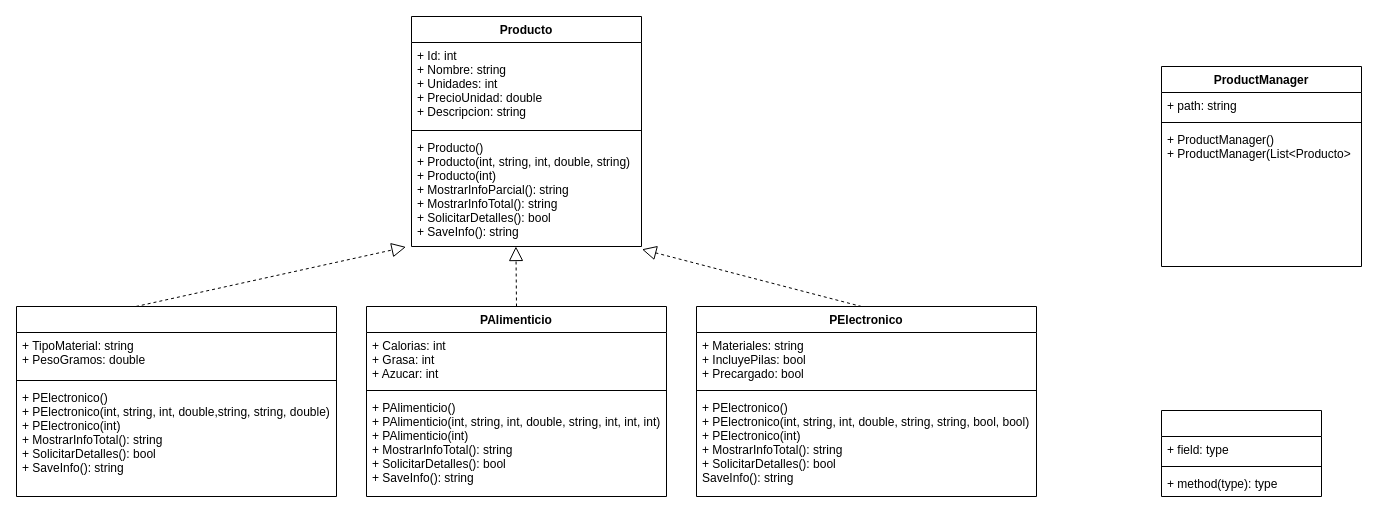
This 1378x513 diagram has some shape labels left out. The box of each missing label's shape, as (x1, y1, x2, y2) in pixels:
Classname: (1160, 410, 1322, 496)
MaterialPrecioso: (16, 306, 336, 496)
